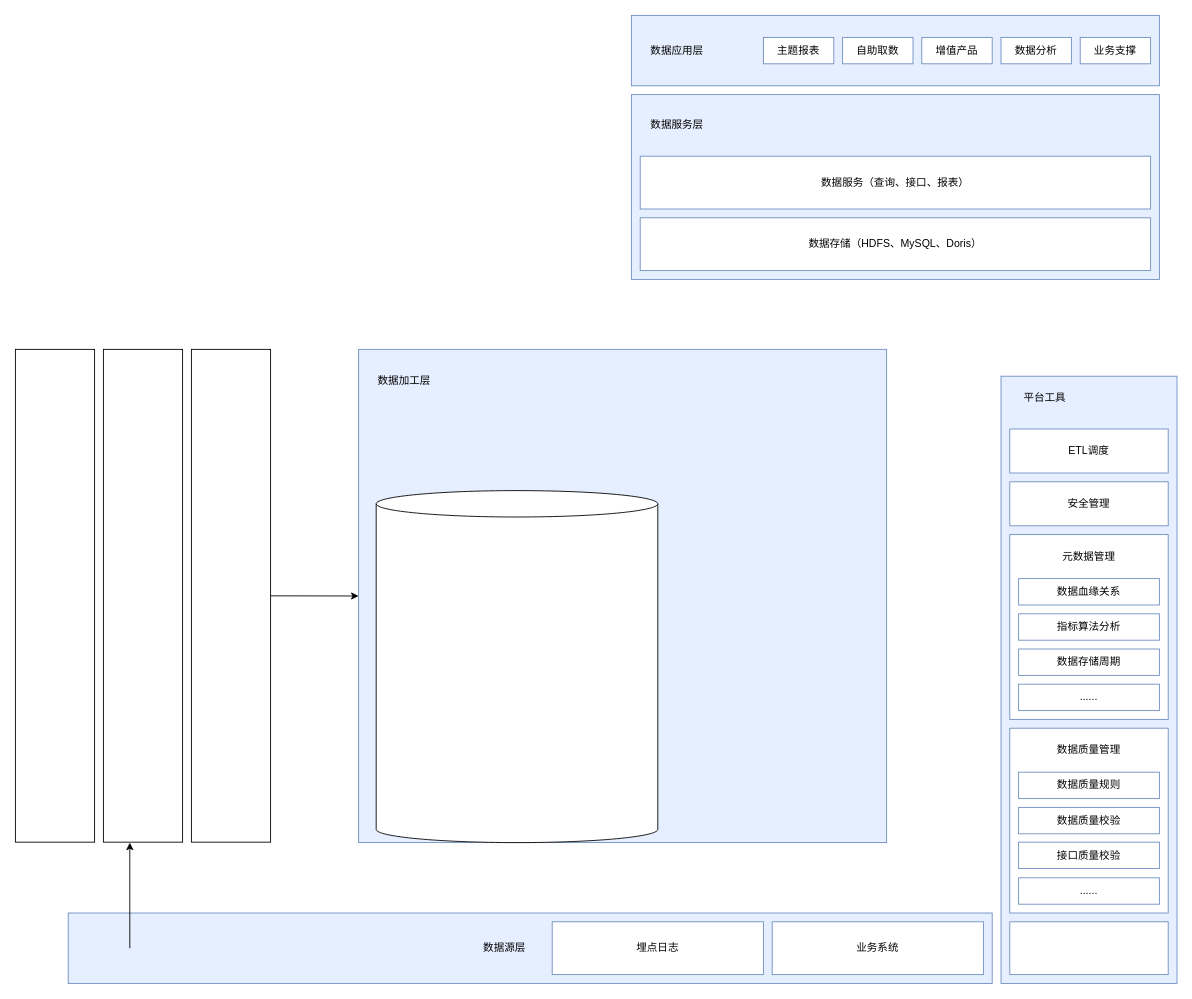
Some shapes in this 1192 by 999 pixel diagram are drawn without their labels. The box of each missing label's shape, as (x1, y1, x2, y2) in pixels:
数据仓库: (375, 490, 658, 843)
数据加载: (191, 348, 271, 842)
数据抽取: (15, 348, 95, 842)
数据转换: (103, 348, 183, 842)
运维管理: (1009, 921, 1168, 975)
